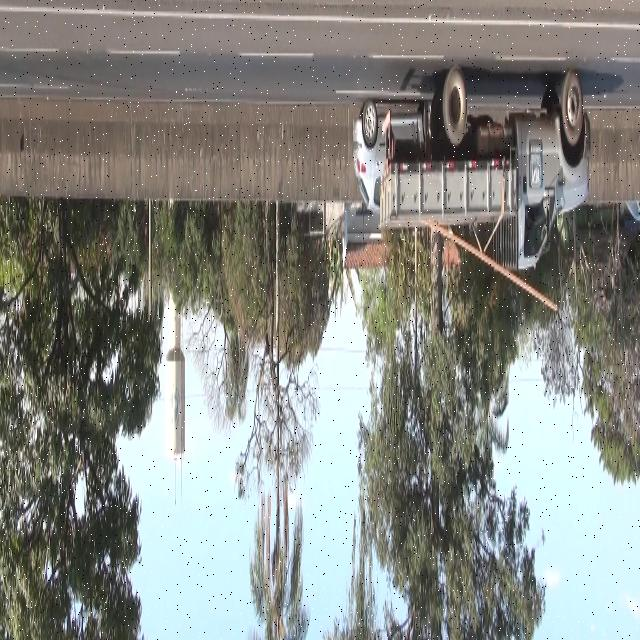-axle: (442, 66, 471, 146), (559, 62, 585, 151)
